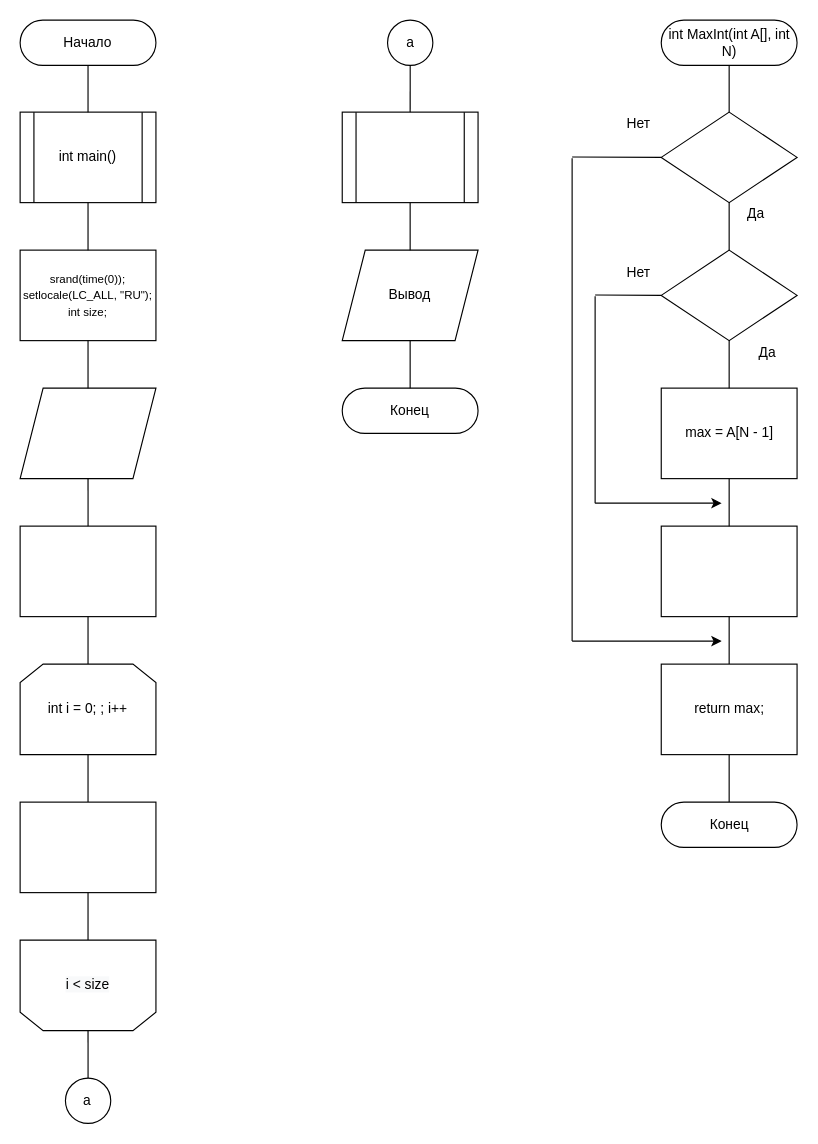
The diagram is 818 pixels wide and 1144 high, and some of its shapes have lost their labels. The shapes that lost their labels are listed below. From the top down, each one's centre as x and y in pixels, then its label:
At (x=409, y=157): "MaxInt(Array, size);".
At (x=728, y=157): "N > 0".
At (x=728, y=295): "A[N - 1] > max".
At (x=87, y=433): "Ввод и вывод".
At (x=87, y=571): "int Array_A[10]; int Array_B[10]; int Array_C[10];".
At (x=728, y=571): "return MaxInt(A, N - 1);".
At (x=87, y=847): "Array[i] = rand() % 100;".
